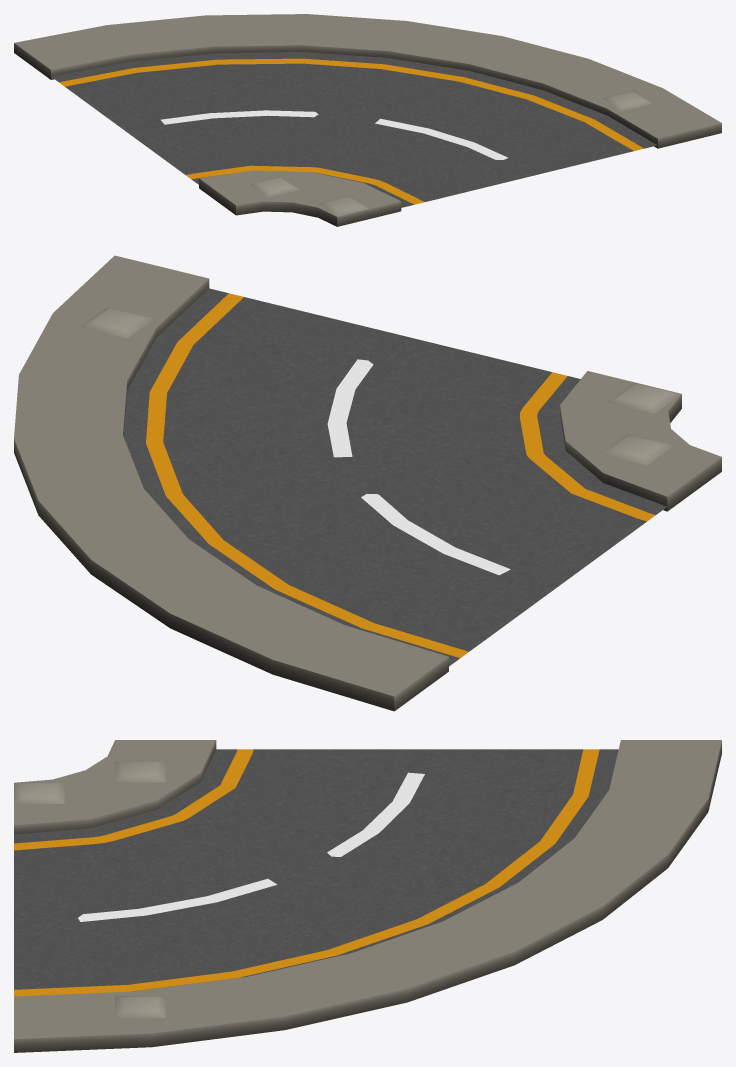
The model's file is Road3.fbx.
The picture shows the model from 3 angles, top to bottom: view 1: azimuth 30°, elevation 25°; view 2: azimuth 150°, elevation 25°; view 3: azimuth 270°, elevation 25°; orthographic projection. The views are drawn at different scales.
Parts seen in each view (by area): view 1: Road_1D002; view 2: Road_1D002; view 3: Road_1D002.
Boxes of the visible parts, bbox=[...] form: Road_1D002: bbox=[14, 14, 721, 226]; Road_1D002: bbox=[14, 255, 721, 711]; Road_1D002: bbox=[14, 740, 721, 1052].
Size of the model in its own units: 26161 by 666 by 26161.
